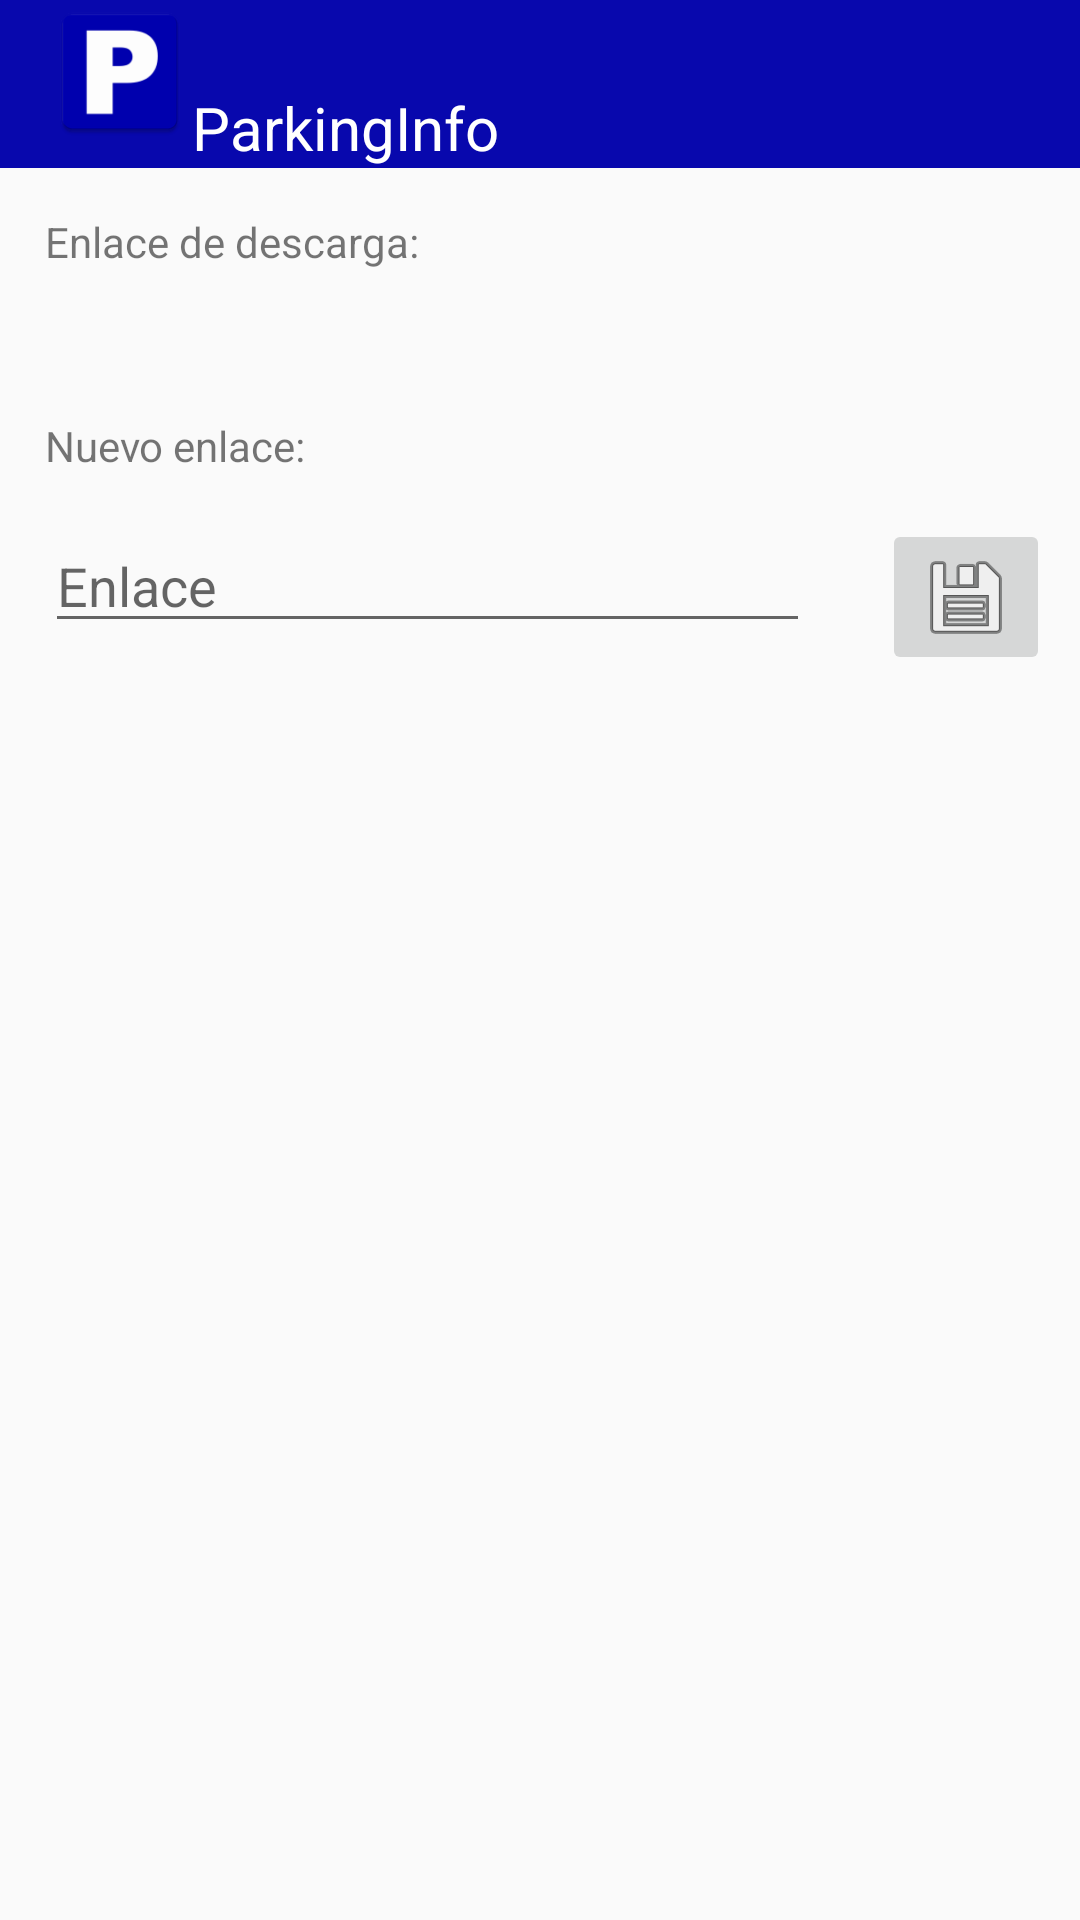

Screen size 1080×1920. Icon name, then its center in pixels as [x,y]:
Guardar: [966,597]
